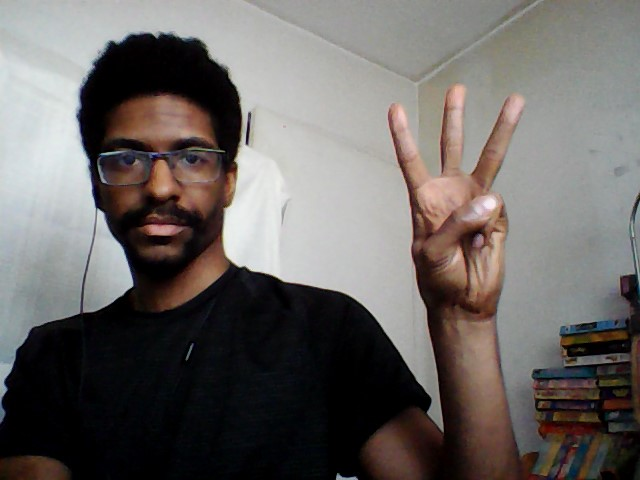w: (381, 75, 530, 316)
